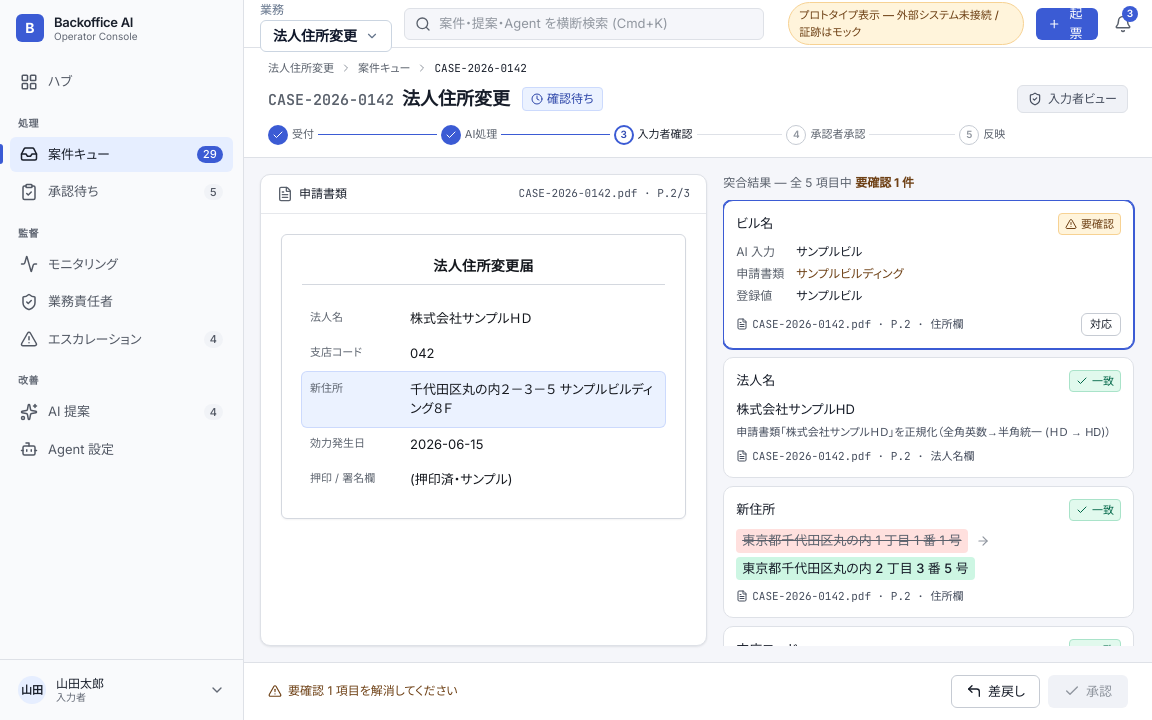
Test: P0-W3 B1: 手入力で上書き → 確認済行が訂正値 (humanValue) を表示 › 訂正値未入力では確定不可 (value 必須 validation)
Click the button "対応" at (1101, 324), box left=1081, top=313, right=1121, bottom=336
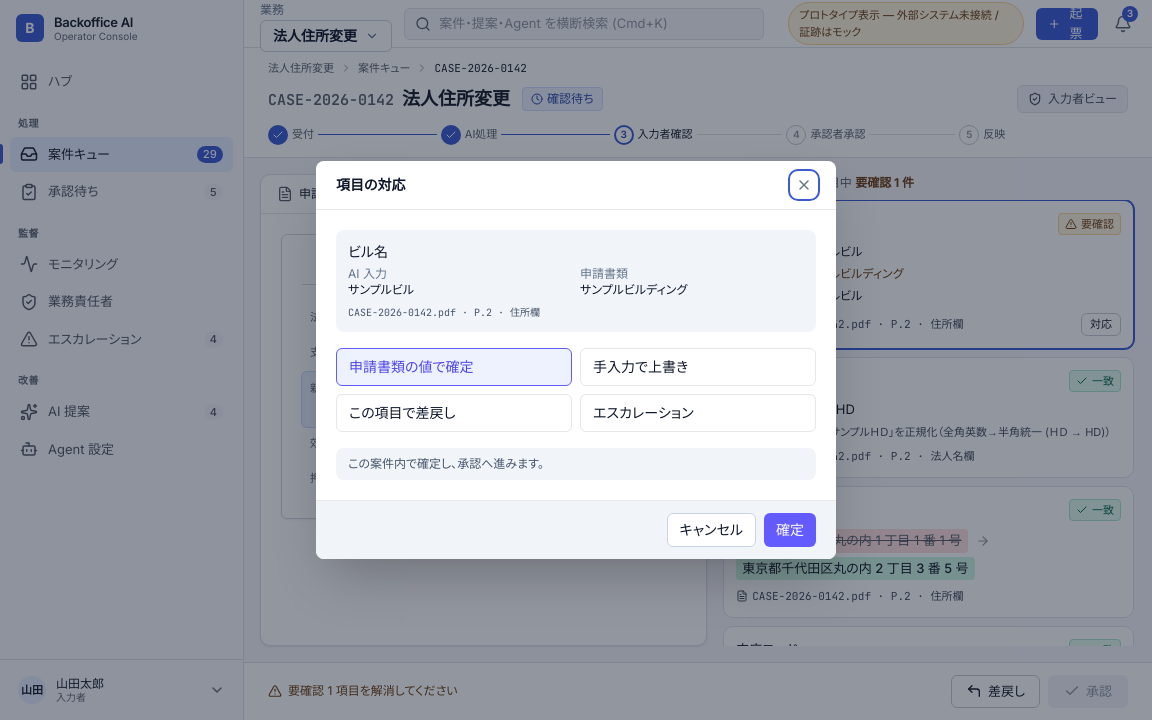
Click the button "手入力で上書き" at (698, 367), box left=580, top=348, right=816, bottom=386
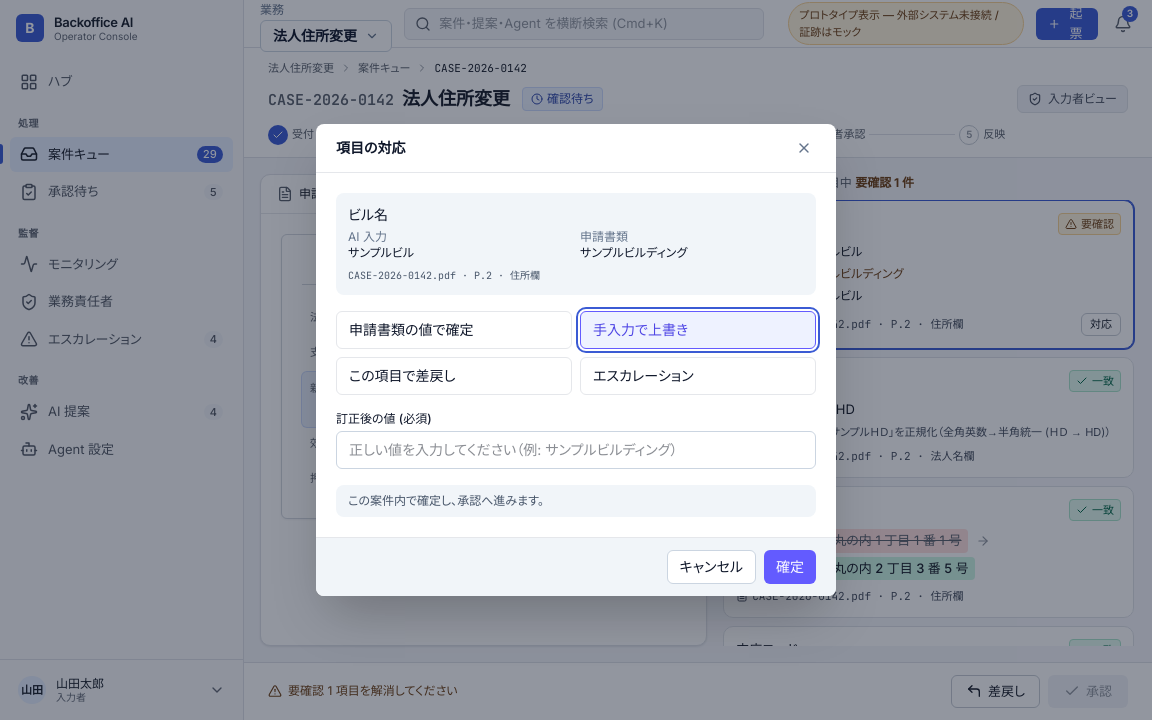
値を入れずに確定 → error 表示、modal は閉じない (確定不可)
Click the button "確定" at (790, 567), box left=764, top=550, right=816, bottom=584
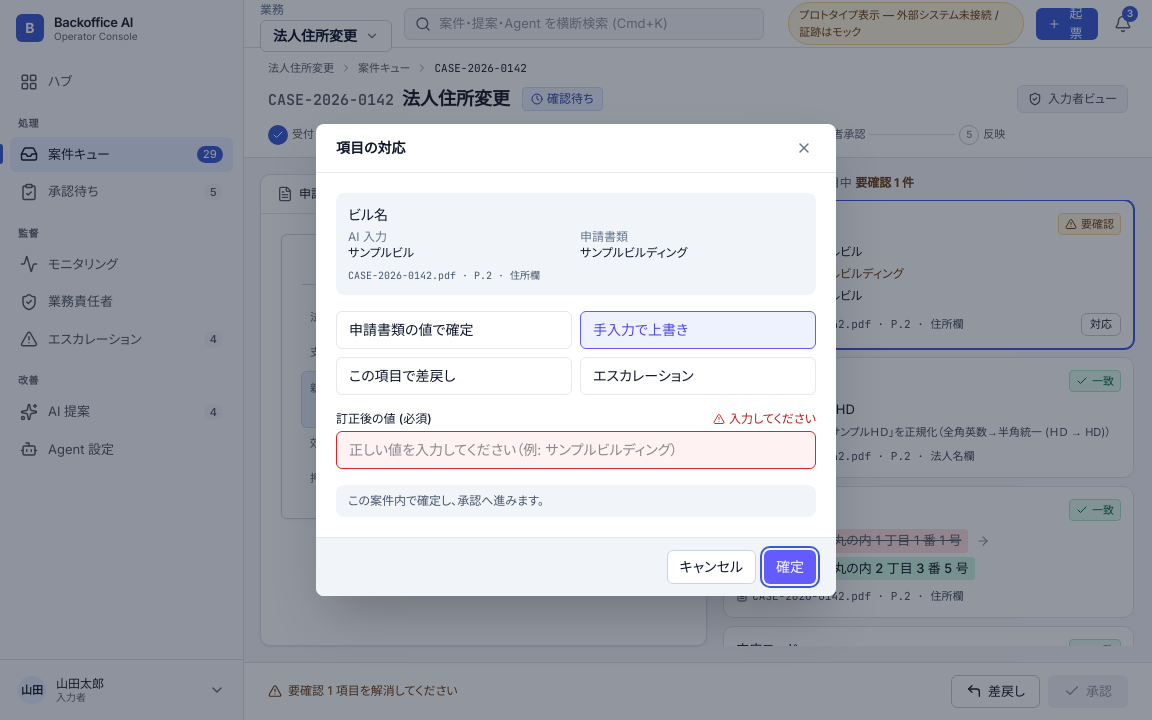
Expected: the field labelled "訂正後の値 (必須)" is shown, left=336, top=431, right=816, bottom=469
Expected: the text "入力してください" is shown, left=713, top=411, right=816, bottom=427
